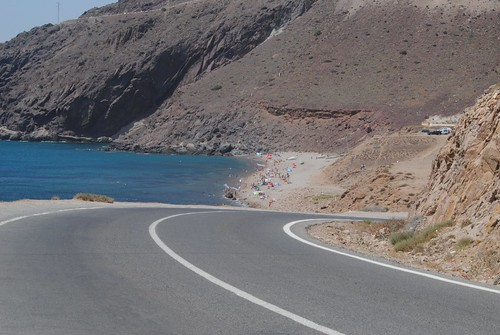sea: (1, 140, 253, 206)
street: (1, 207, 500, 335)
